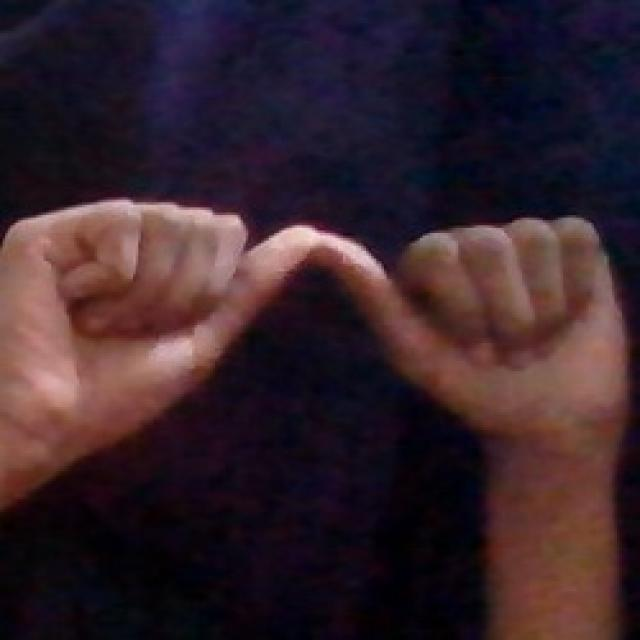Alphabet-A: (15, 200, 620, 450), (393, 579, 395, 580)
